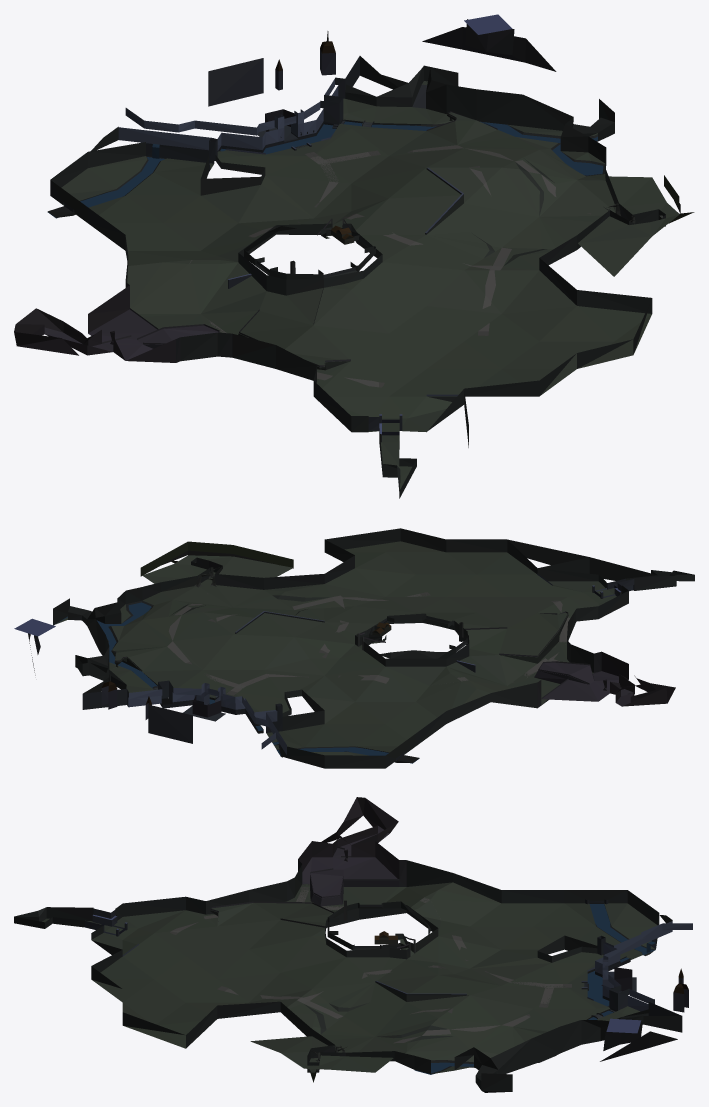
Rendered from spot00.obj.
3 views of the same model, one above another, from view 1: azimuth 30°, elevation 25°; view 2: azimuth 150°, elevation 25°; view 3: azimuth 270°, elevation 25° (orthographic). The views are drawn at different scales.
Bounding box in the file's own units: 17680 × 2502 × 18340.
